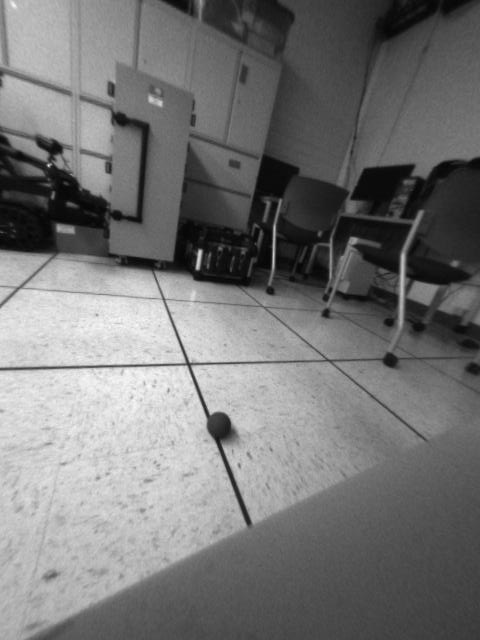dogtoy: (203, 403, 242, 442)
